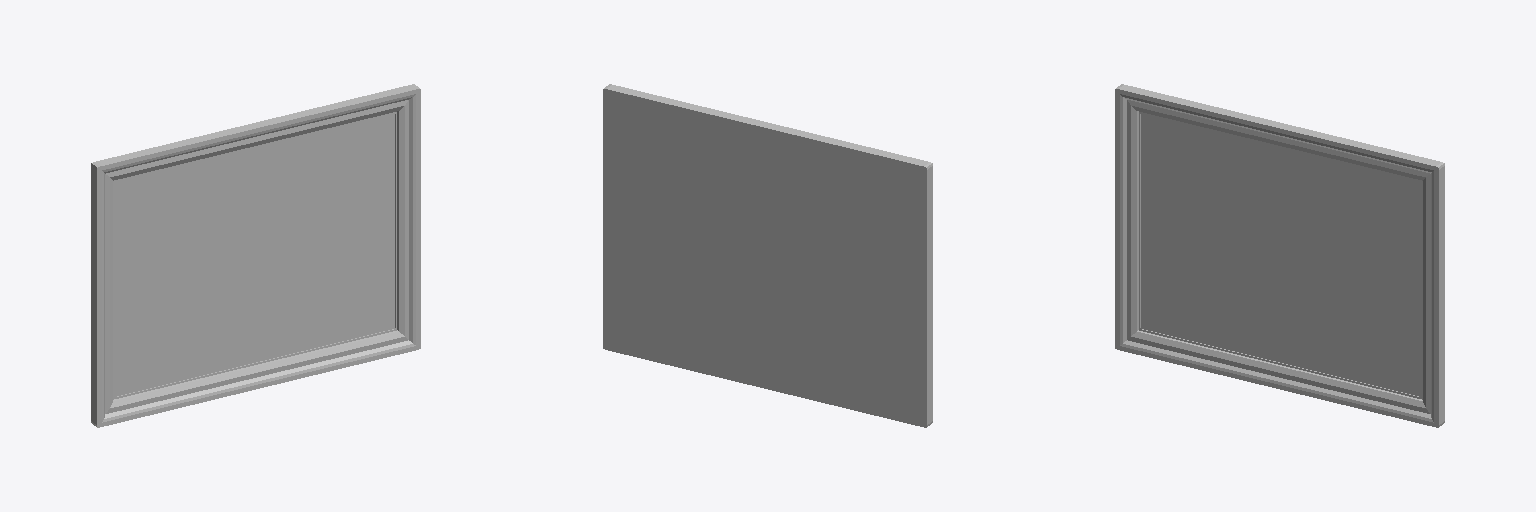
The model's file is fancy_picture_frame_01_4k.obj.
The picture shows the model from 3 angles: view 1: azimuth 30°, elevation 25°; view 2: azimuth 150°, elevation 25°; view 3: azimuth 330°, elevation 25°; orthographic projection.
Parts seen in each view (by area): view 1: fancy_picture_frame_01_canvas, fancy_picture_frame_01; view 2: fancy_picture_frame_01; view 3: fancy_picture_frame_01_canvas, fancy_picture_frame_01.
Boxes of the visible parts, x1=… form: fancy_picture_frame_01_canvas: x1=114, y1=113, x2=394, y2=396; fancy_picture_frame_01: x1=91, y1=84, x2=420, y2=427; fancy_picture_frame_01: x1=603, y1=84, x2=932, y2=427; fancy_picture_frame_01_canvas: x1=1141, y1=113, x2=1421, y2=396; fancy_picture_frame_01: x1=1115, y1=84, x2=1444, y2=427.
Size of the model in its own units: 0.603 by 0.4641 by 0.02.